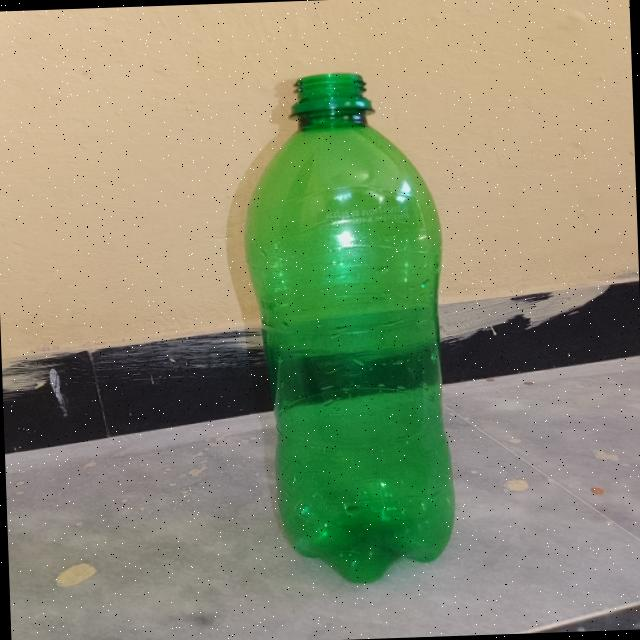bottle: (240, 57, 464, 587)
